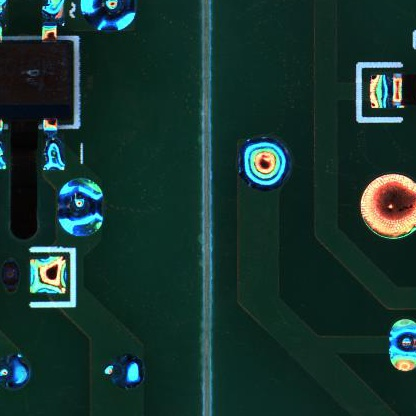spot: (56, 179, 106, 236), (238, 136, 288, 191), (388, 318, 416, 370)
